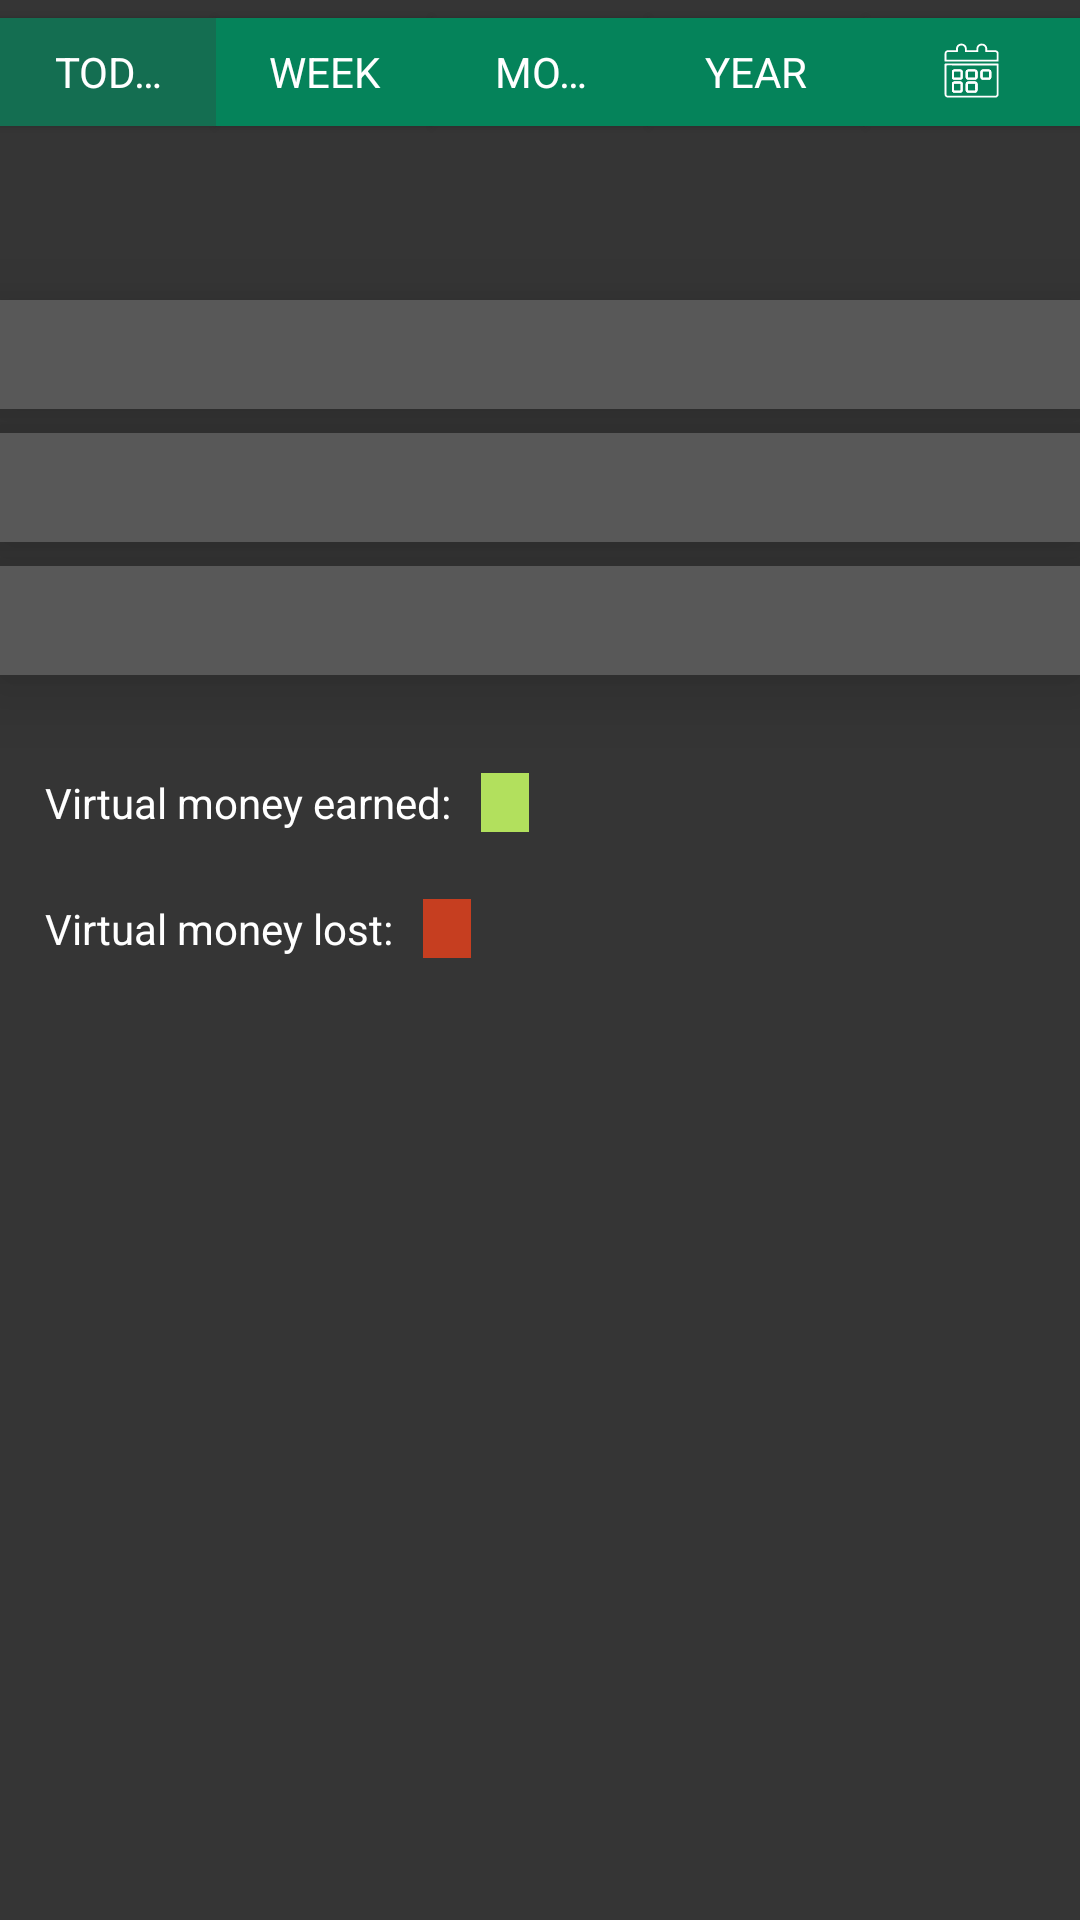

Screen size 1080px×1920px. Icon name, then its center in pixels as (x,y):
custom calendar: (972,72)
